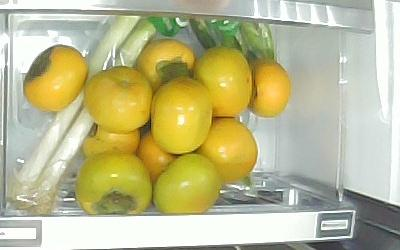persimmon: (76, 150, 152, 214), (84, 66, 155, 132), (152, 77, 212, 152), (23, 44, 89, 112), (194, 46, 251, 119), (152, 153, 222, 212), (199, 118, 256, 181), (135, 38, 196, 92), (250, 60, 291, 118), (81, 123, 141, 157), (139, 130, 177, 181)
